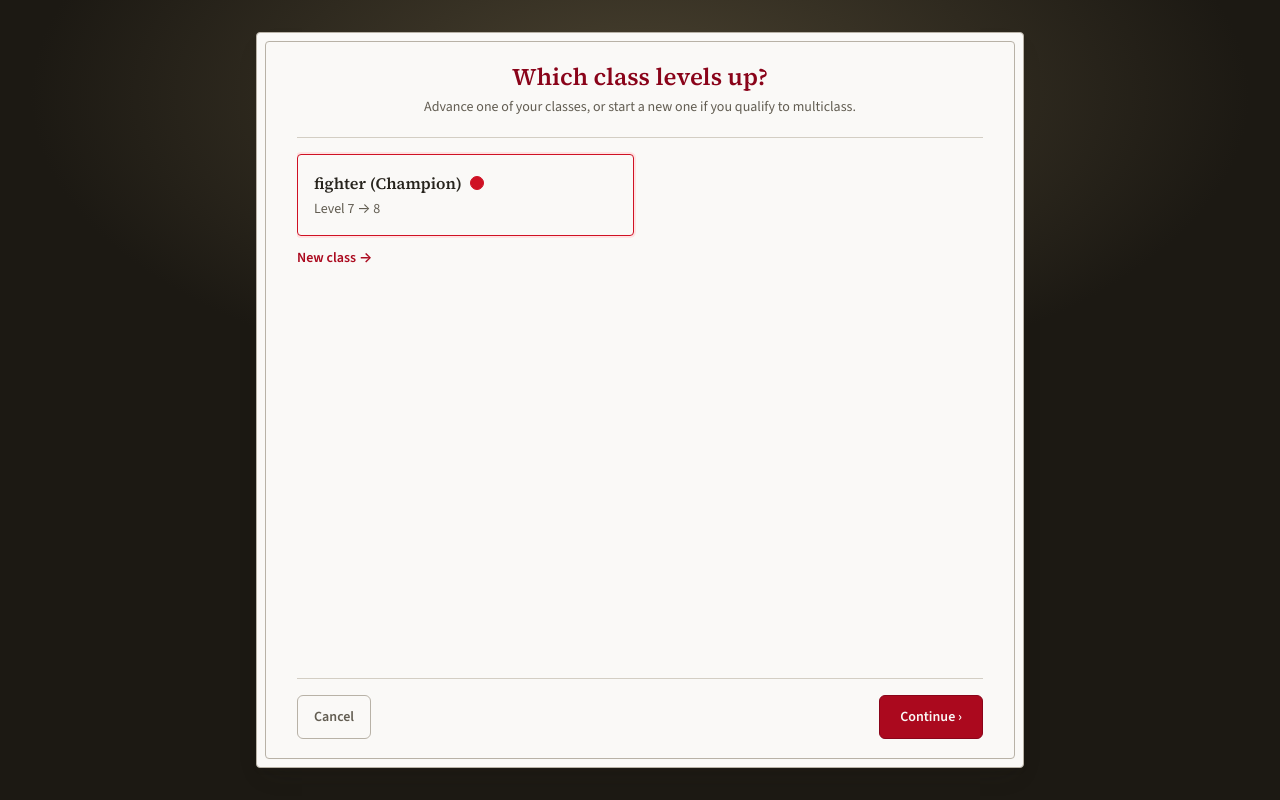
Scenario: LevelUpCeremony — class choice (#1170) › picking the new class and continuing enters that class's ceremony
Click the button with aria-label "add a new class": (335, 258) [297,248,372,268]
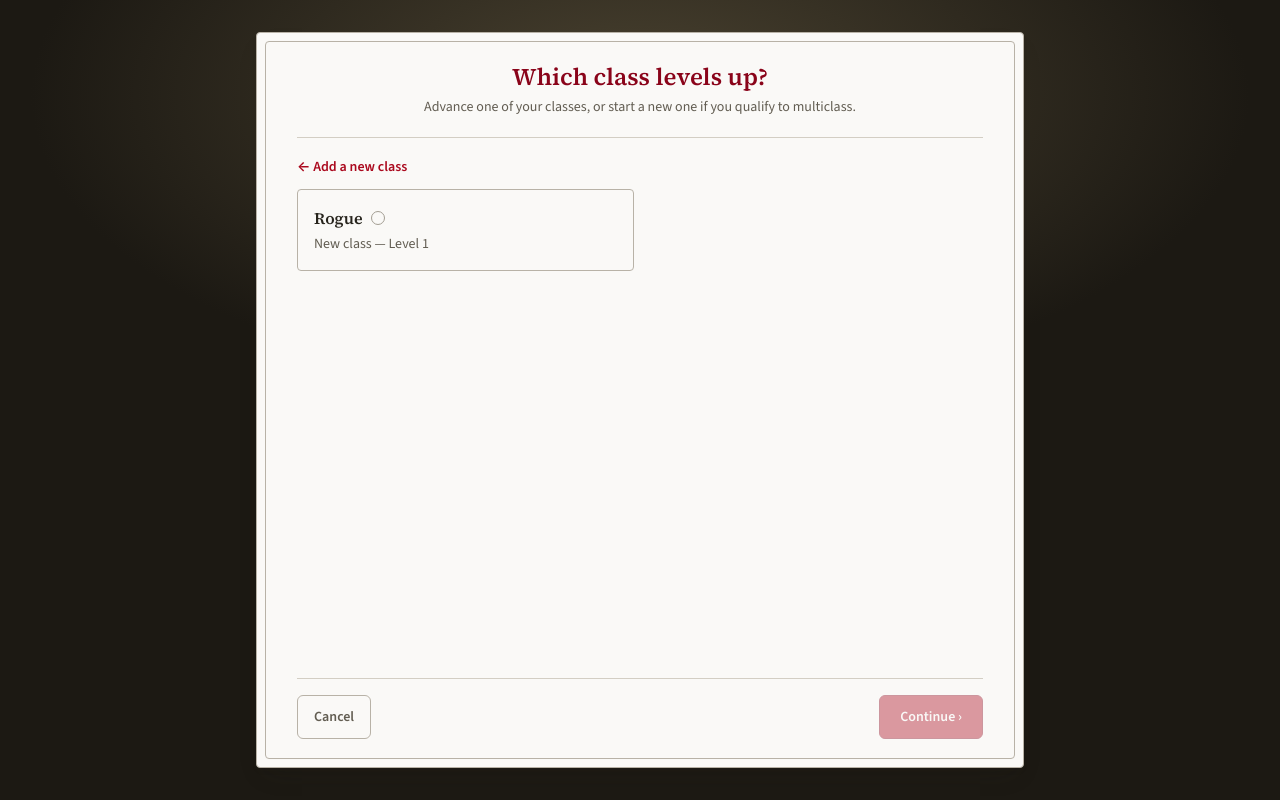
Click the radio button labelled "Rogue": (338, 218) [297,189,634,271]
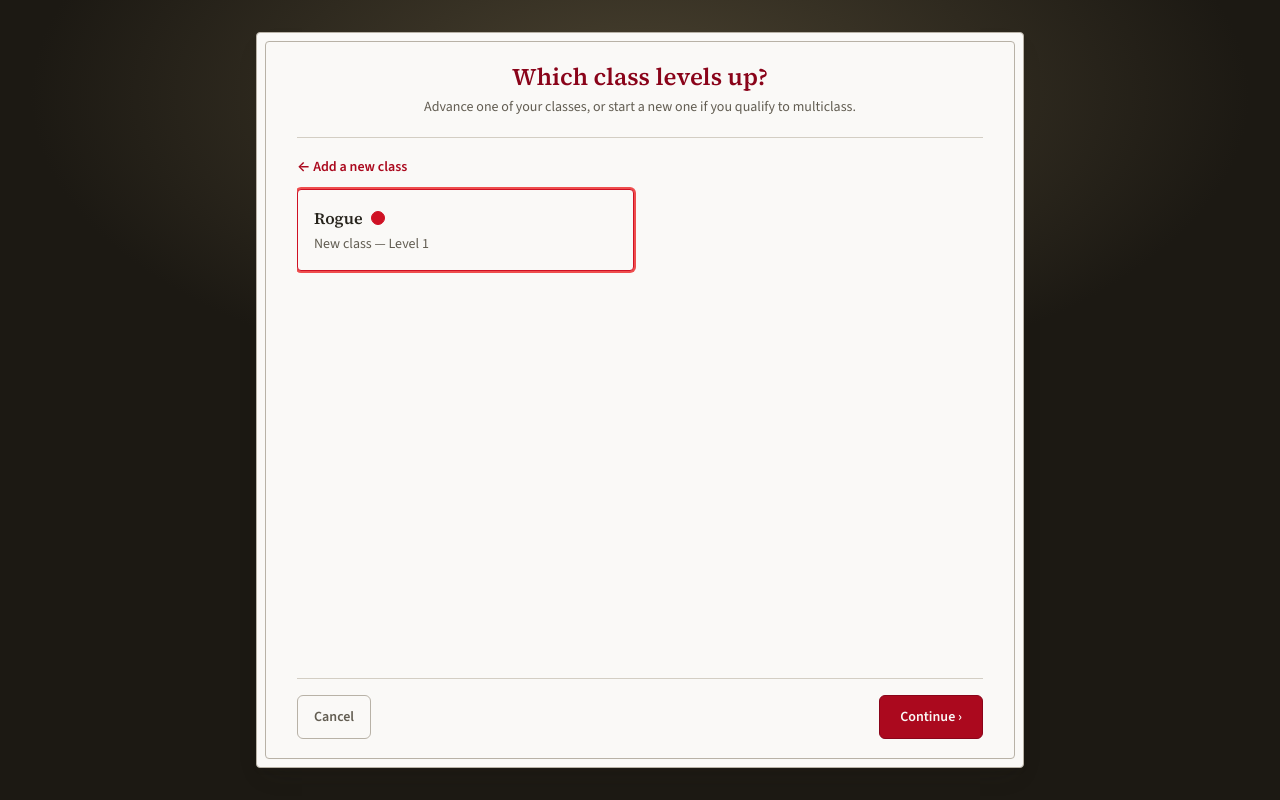
Click the button "Continue ›": (931, 717) [879,695,983,739]
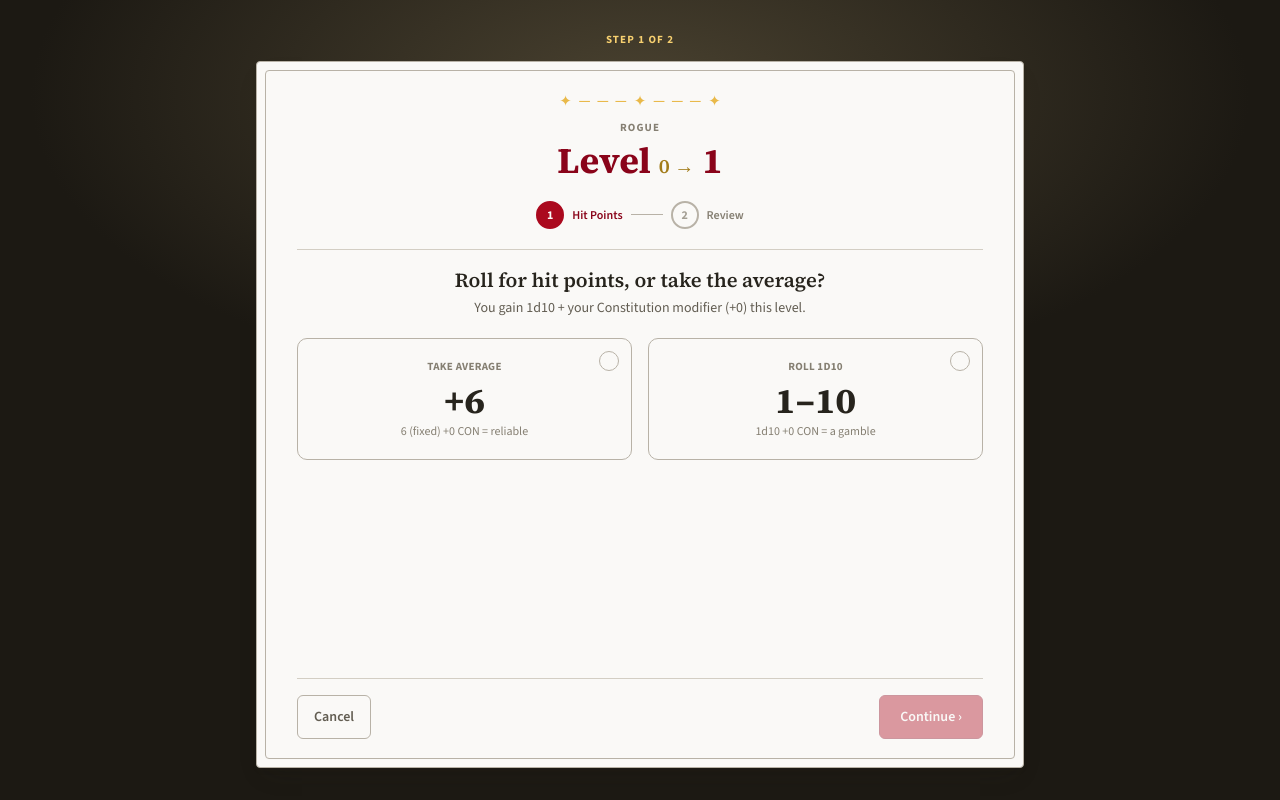
Check: the text "Rogue" is shown, box [620,120,660,135]
Check: the heading "Level 0 → 1" is shown, box [557,136,723,184]
